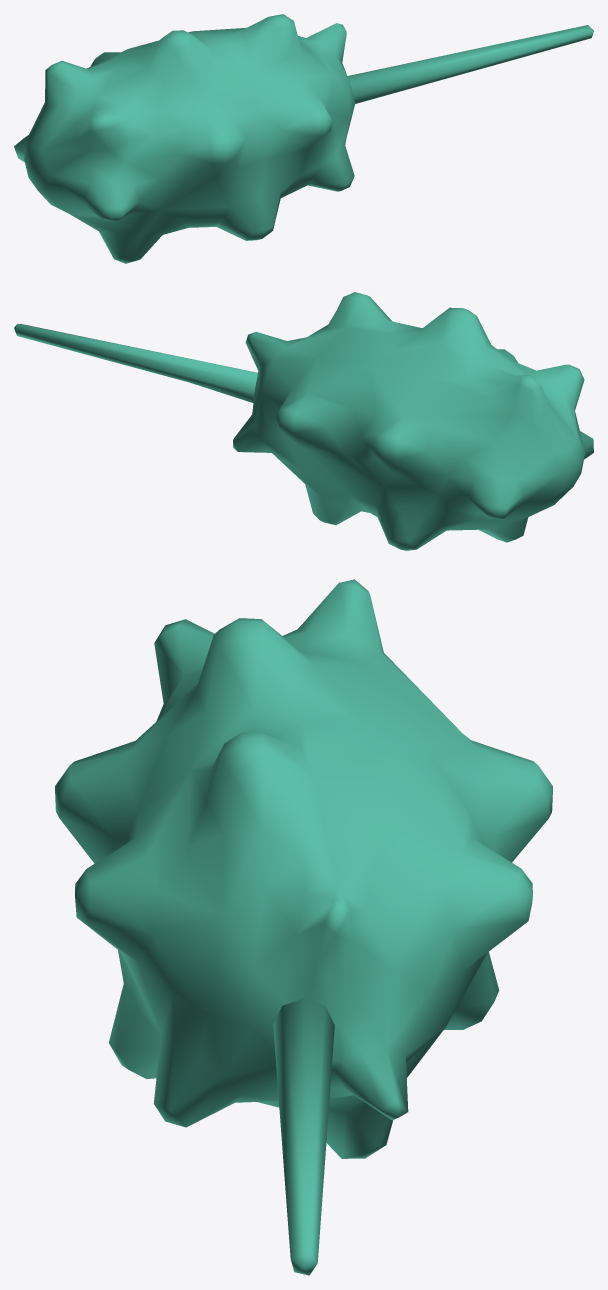
File: monster2.fbx
3 renders of one model, top to bottom at view 1: azimuth 30°, elevation 25°; view 2: azimuth 150°, elevation 25°; view 3: azimuth 270°, elevation 25°, orthographic. The views are drawn at different scales.
Parts seen in each view (by area): view 1: monster2; view 2: monster2; view 3: monster2.
Boxes of the visible parts, left/top/right/bottom form: monster2: left=14, top=14, right=593, bottom=263; monster2: left=14, top=292, right=593, bottom=550; monster2: left=55, top=579, right=552, bottom=1275.
Size of the model in its own units: 162 by 59.57 by 62.07.
